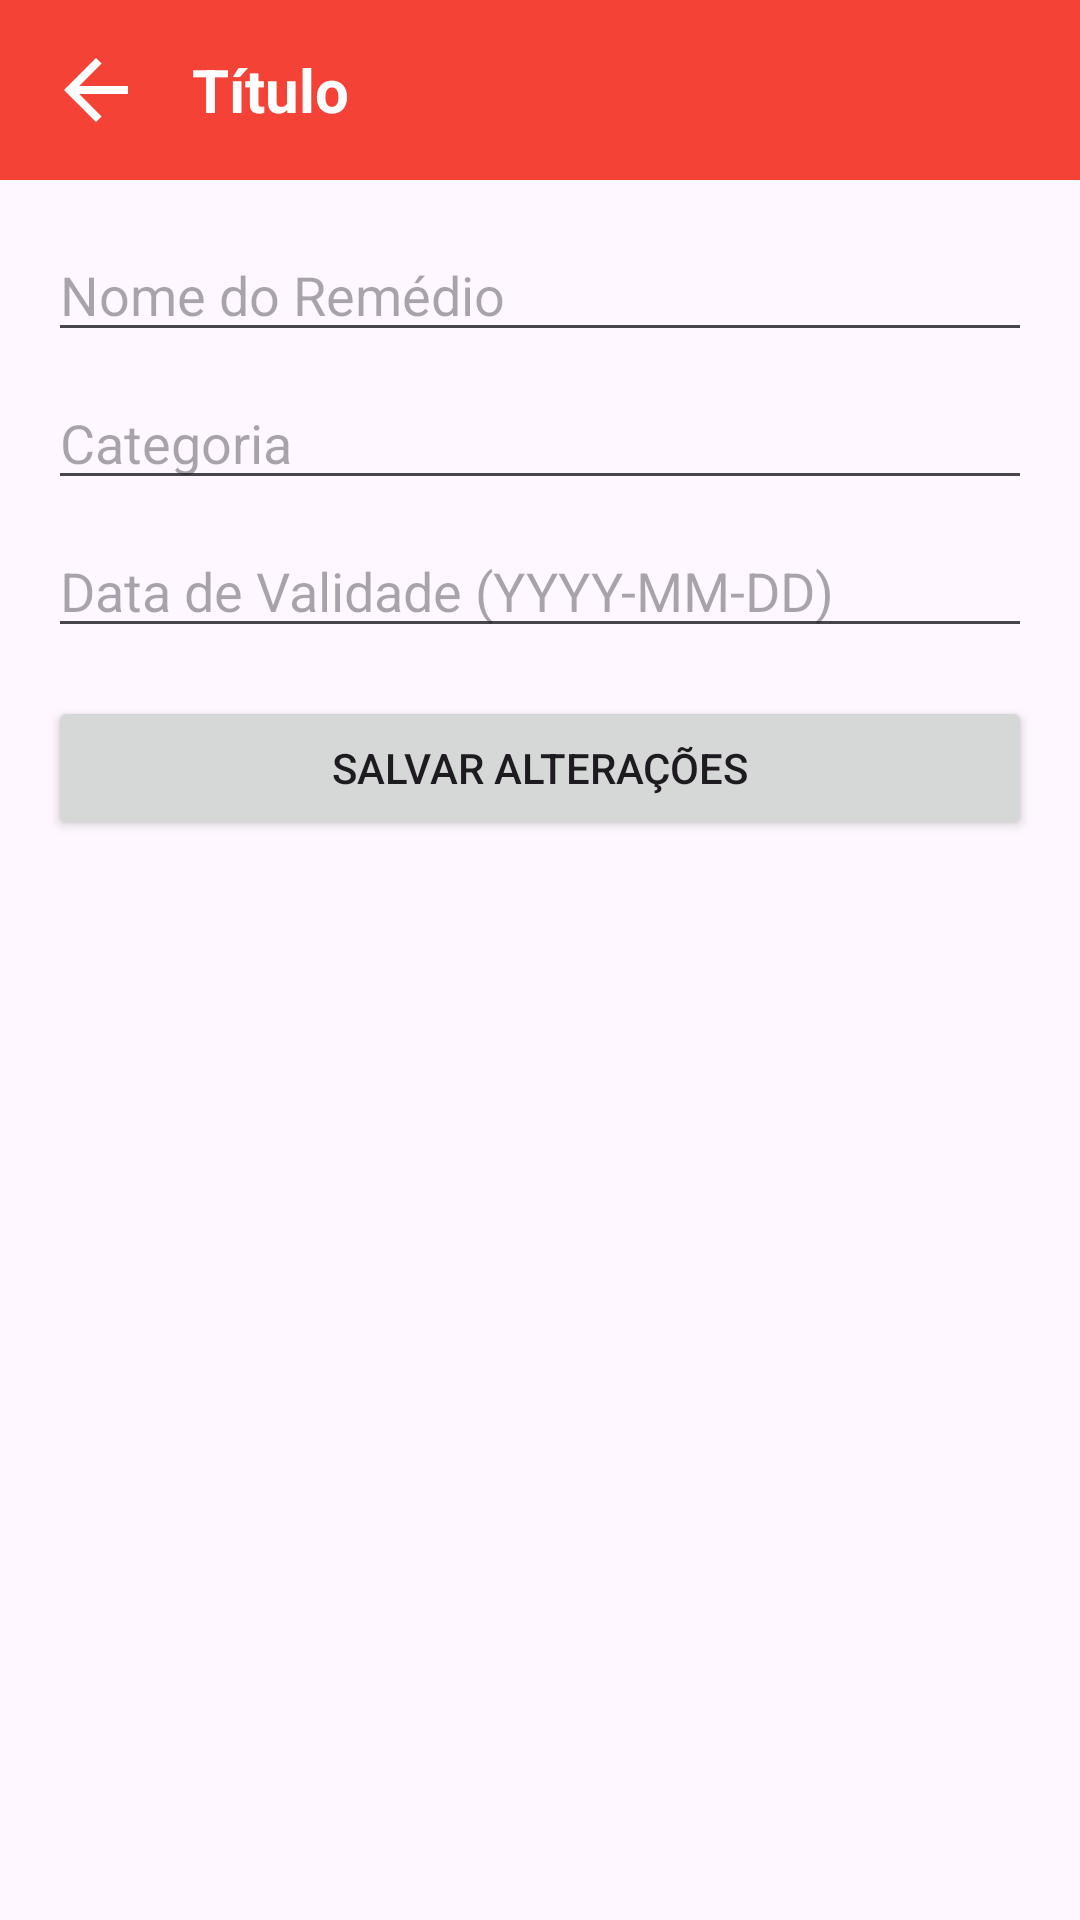

Locate icon controls on the screen. Image size 1080×1920, boxes as (x1, y1, x2, y2).
Voltar: (64, 58, 128, 122)
